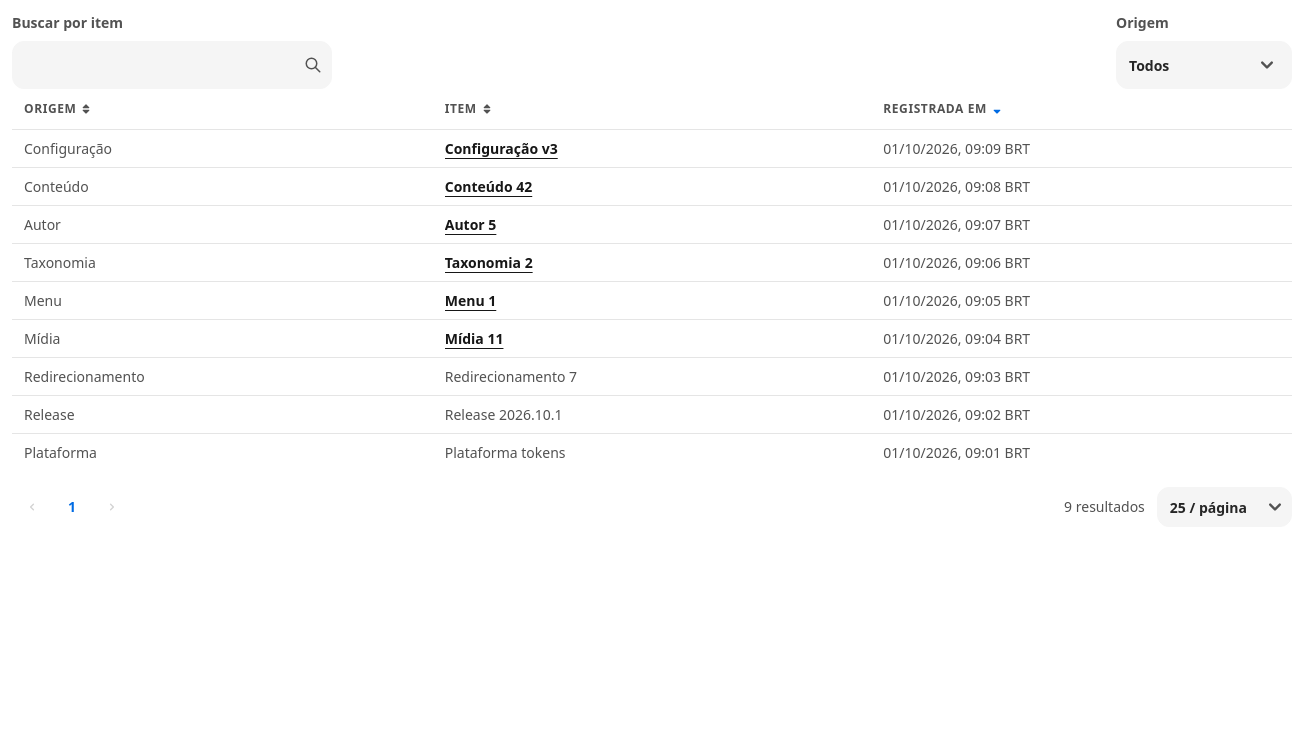
Test: busca, filtro, ordem e paginação (#365) › busca sem resultado mantém a tabela com a mensagem e 0 resultados
The width and height of the screenshot is (1304, 732).
Step 1. Type "inexistente" into the search field labelled "Buscar por item" → point(172, 65), box [12,41,332,89]
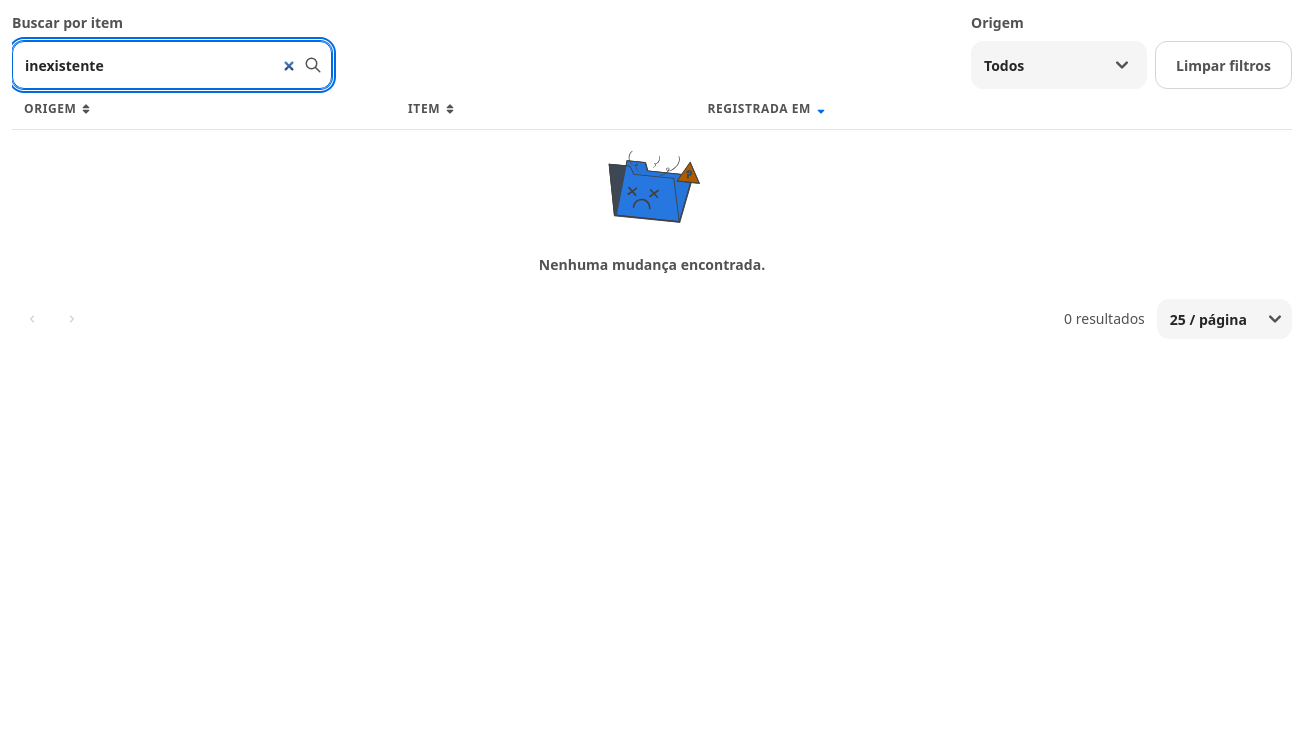
expect the text "Nenhuma mudança encontrada." is shown: met, box [539,254,765,275]
expect the message reads "0 resultados": met, box [1064,309,1145,328]
